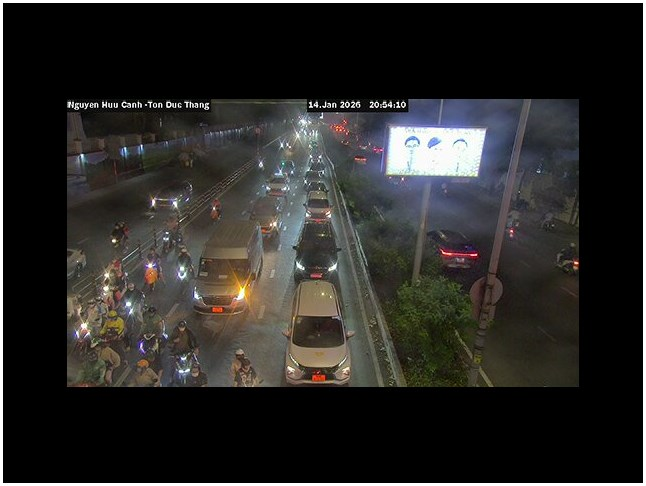car: (283, 278, 352, 383), (190, 218, 264, 315), (430, 228, 480, 269), (304, 193, 333, 222), (554, 243, 578, 274), (67, 248, 87, 279)
